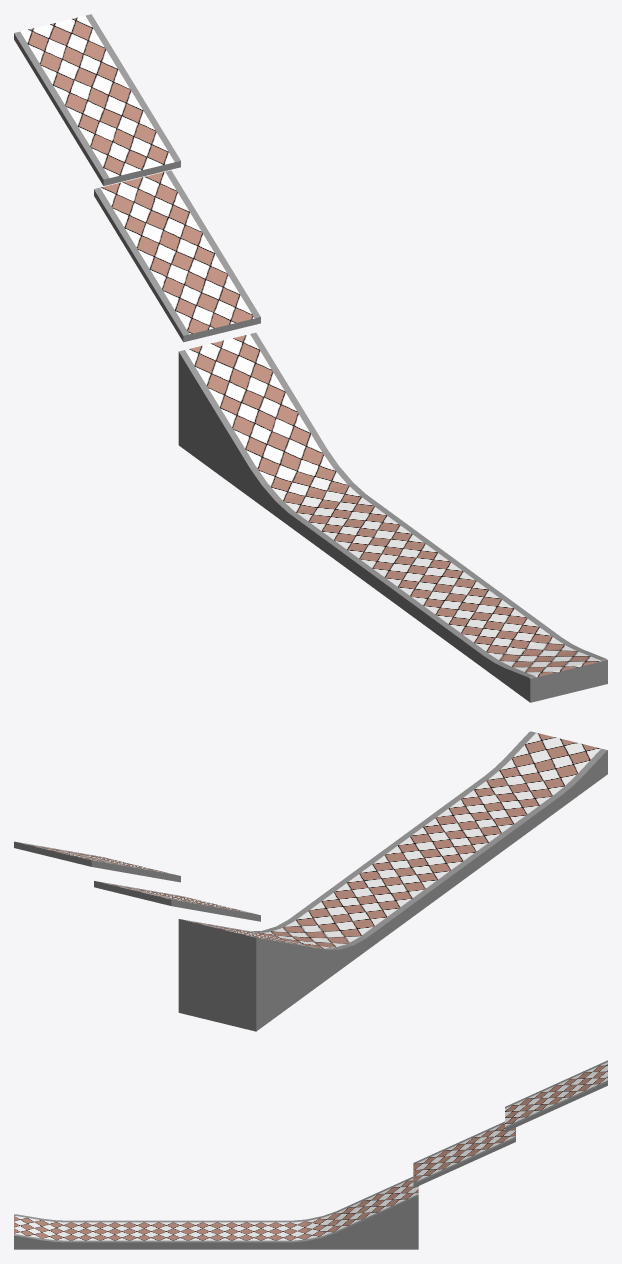
The model's file is fallschunk.fbx.
The picture shows the model from 3 angles, top to bottom: view 1: azimuth 30°, elevation 25°; view 2: azimuth 150°, elevation 25°; view 3: azimuth 270°, elevation 25°; orthographic projection. The views are drawn at different scales.
Parts seen in each view (by area): view 1: fallschunk, fallschunk.001, fallschunk.002; view 2: fallschunk, fallschunk.001, fallschunk.002; view 3: fallschunk, fallschunk.001, fallschunk.002.
Boxes of the visible parts, left/top/right/bottom form: fallschunk: left=178, top=332, right=607, bottom=702; fallschunk.001: left=14, top=14, right=180, bottom=185; fallschunk.002: left=94, top=170, right=260, bottom=342; fallschunk: left=178, top=731, right=607, bottom=1031; fallschunk.001: left=14, top=841, right=180, bottom=882; fallschunk.002: left=94, top=881, right=260, bottom=921; fallschunk: left=14, top=1176, right=418, bottom=1249; fallschunk.001: left=505, top=1060, right=607, bottom=1131; fallschunk.002: left=413, top=1121, right=515, bottom=1188.
Size of the model in its own units: 25 by 288 by 89.9.
